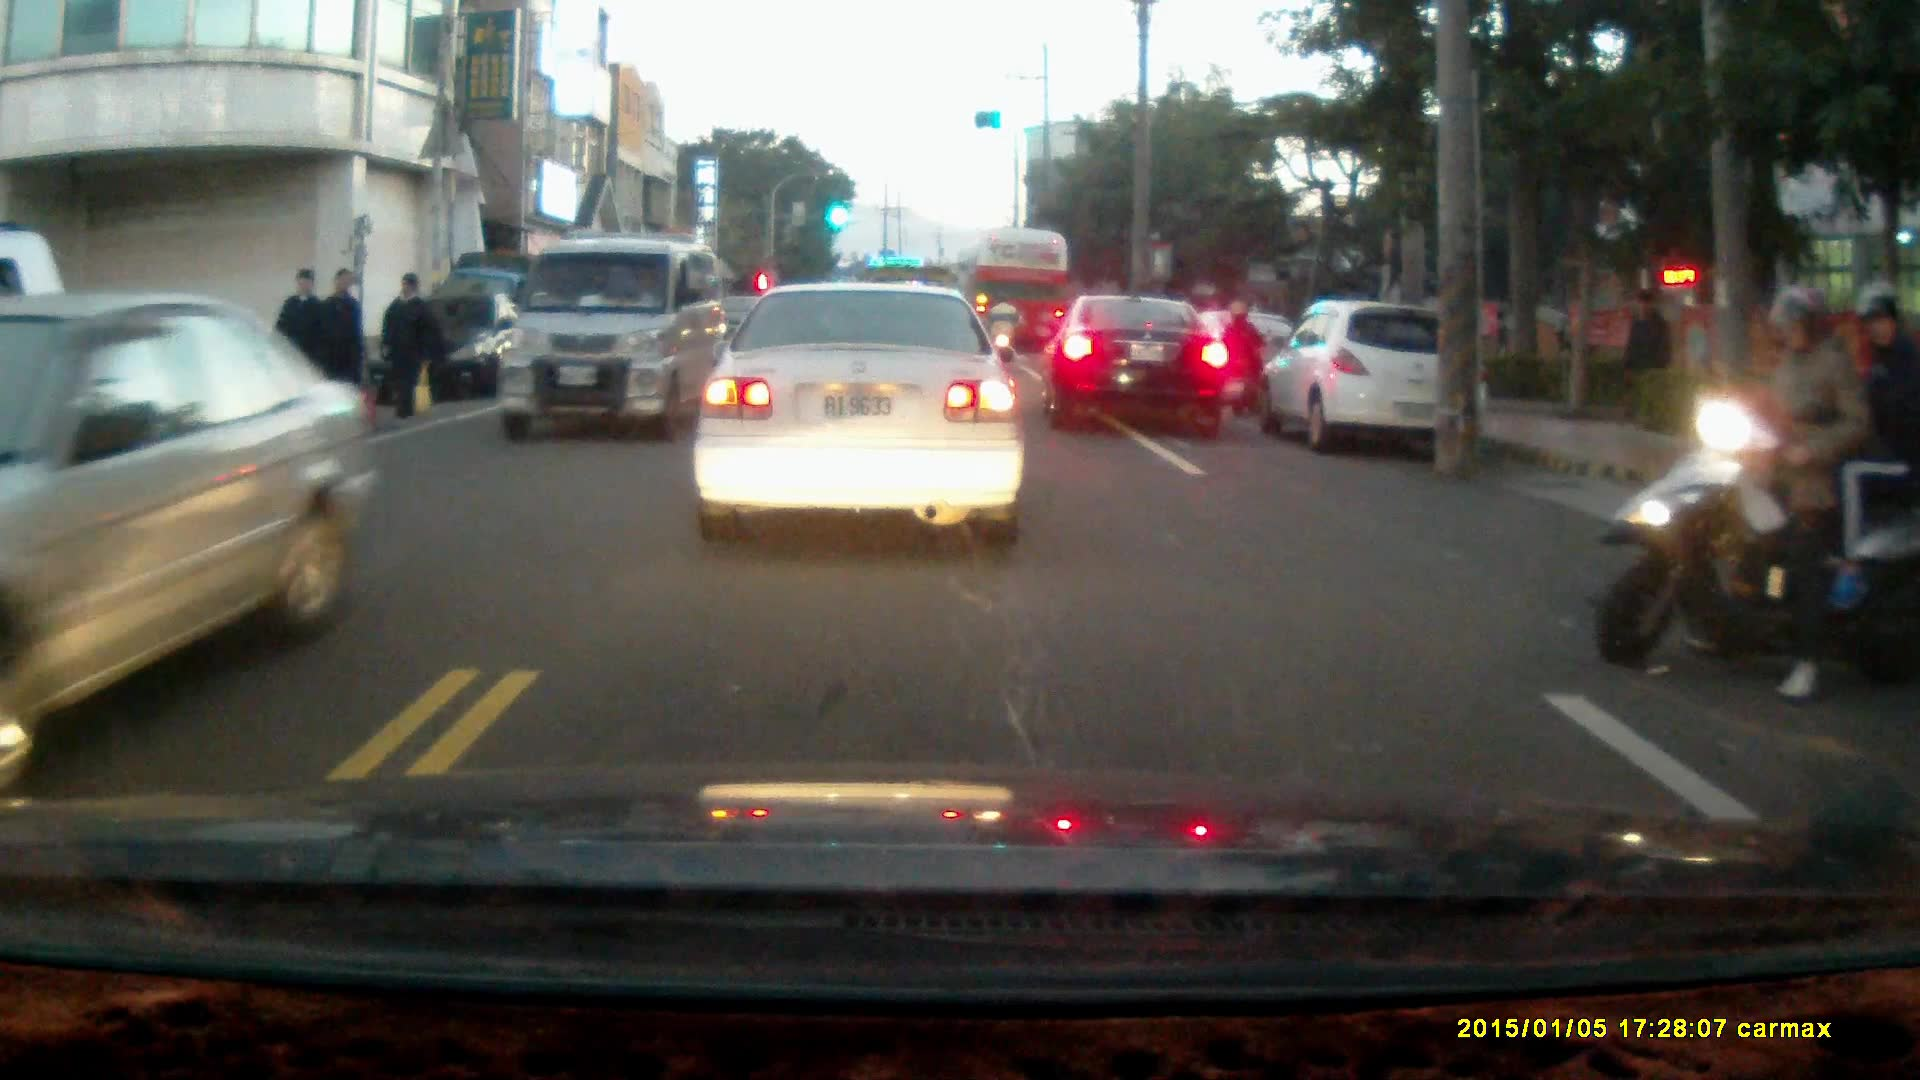pedestrian: (267, 265, 331, 453), (301, 263, 362, 432), (379, 270, 437, 421), (1625, 285, 1679, 421)
rider: (1593, 279, 1916, 699), (1219, 296, 1271, 415), (983, 290, 1022, 372)
vehicle: (1, 292, 387, 762), (690, 279, 1029, 550), (497, 234, 731, 444), (1255, 296, 1490, 458), (1043, 297, 1235, 439), (376, 289, 541, 405), (973, 224, 1072, 368)
